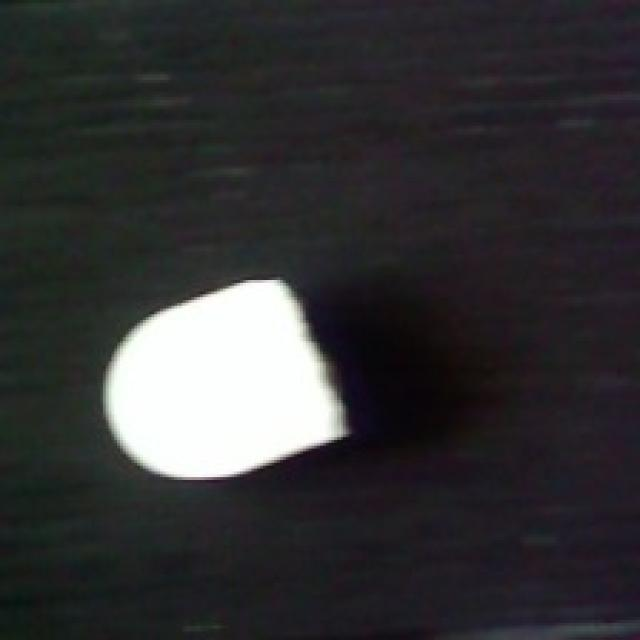defected: (100, 271, 360, 486)
